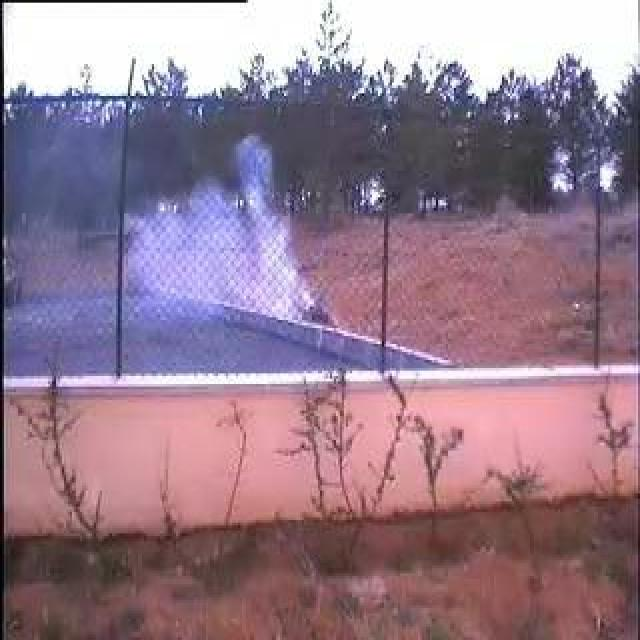Smoke: (120, 136, 318, 317)
